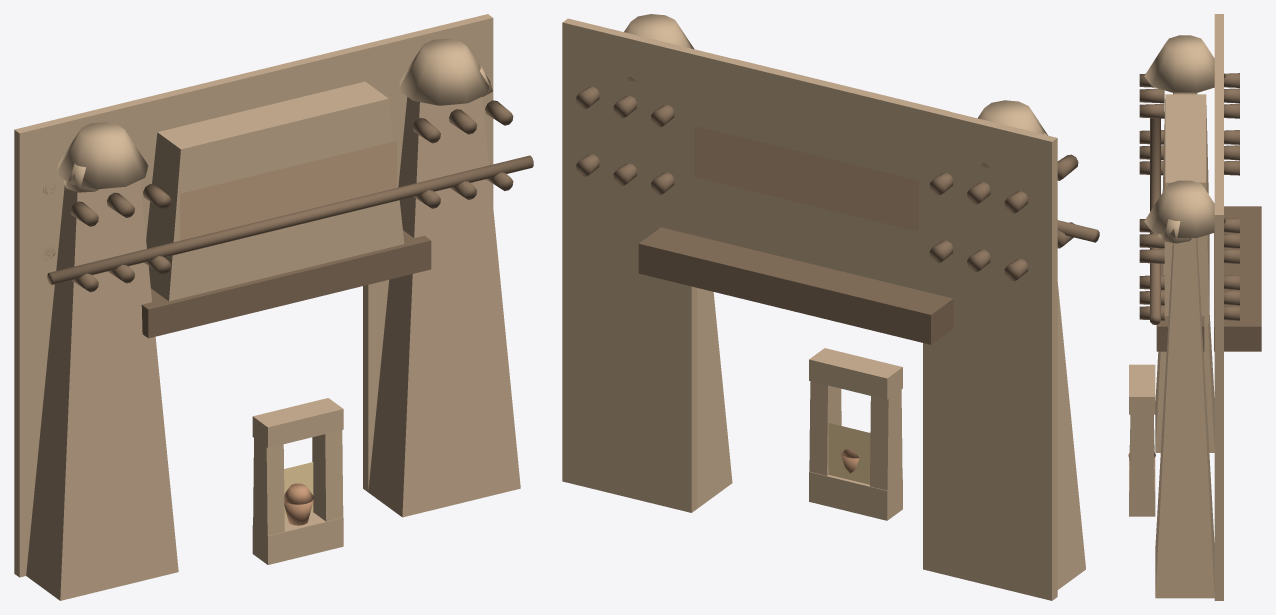
The model's file is kingdoms.glb.
The picture shows the model from 3 angles, left to right: view 1: azimuth 30°, elevation 25°; view 2: azimuth 150°, elevation 25°; view 3: azimuth 270°, elevation 25°; orthographic projection. The views are drawn at different scales.
Visible parts, largest first — view 1: Banco_towerL, Banco_towerR, Banco_header, Banco_backL, Band_header, Timber_lintel, Banco_backR, Banco_backHdr, Timber_beam, Banco_cap.001, Banco_cap, Banco_nicheL (+4 smaller); view 2: Banco_backL, Banco_backR, Banco_backHdr, Timber_lintelIn, Band_headerIn, Banco_towerR, Banco_towerL, Banco_nicheL, Banco_nicheTop, Banco_nicheSill, Banco_nicheR, Glow_back (+2 smaller); view 3: Banco_towerR, Banco_header, Banco_backR, Timber_lintelIn, Banco_cap, Banco_cap.001, Banco_nicheR, Banco_towerL, Timber_beam, Banco_nicheTop, Banco_backHdr, Banco_backL (+23 smaller).
Boxes of the visible parts, left/top/right/bottom form: Banco_towerL: left=26, top=180, right=178, bottom=600; Banco_towerR: left=368, top=97, right=520, bottom=517; Banco_header: left=146, top=81, right=404, bottom=301; Banco_backL: left=14, top=99, right=144, bottom=577; Band_header: left=180, top=141, right=396, bottom=240; Timber_lintel: left=141, top=230, right=431, bottom=338; Banco_backR: left=363, top=14, right=493, bottom=491; Banco_backHdr: left=139, top=44, right=368, bottom=239; Timber_beam: left=47, top=155, right=533, bottom=284; Banco_cap.001: left=398, top=38, right=490, bottom=105; Banco_cap: left=56, top=122, right=148, bottom=189; Banco_nicheL: left=252, top=413, right=284, bottom=564; Banco_backL: left=923, top=106, right=1057, bottom=600; Banco_backR: left=562, top=18, right=697, bottom=512; Banco_backHdr: left=691, top=50, right=927, bottom=290; Timber_lintelIn: left=638, top=227, right=953, bottom=344; Band_headerIn: left=694, top=126, right=918, bottom=231; Banco_towerR: left=697, top=288, right=732, bottom=508; Banco_towerL: left=1057, top=282, right=1085, bottom=589; Banco_nicheL: left=870, top=364, right=902, bottom=520; Banco_nicheTop: left=809, top=348, right=902, bottom=399; Banco_nicheSill: left=809, top=471, right=902, bottom=520; Banco_nicheR: left=809, top=349, right=841, bottom=475; Glow_back: left=828, top=423, right=870, bottom=484; Banco_towerR: left=1155, top=238, right=1214, bottom=598; Banco_header: left=1162, top=94, right=1209, bottom=323; Banco_backR: left=1214, top=162, right=1223, bottom=600; Timber_lintelIn: left=1214, top=206, right=1261, bottom=351; Banco_cap: left=1144, top=35, right=1225, bottom=92; Banco_cap.001: left=1144, top=180, right=1225, bottom=237; Banco_nicheR: left=1129, top=414, right=1155, bottom=516; Banco_towerL: left=1155, top=92, right=1214, bottom=452; Timber_beam: left=1150, top=118, right=1160, bottom=324; Banco_nicheTop: left=1129, top=364, right=1155, bottom=414; Banco_backHdr: left=1214, top=67, right=1223, bottom=161; Banco_backL: left=1214, top=14, right=1223, bottom=66.
Bounding box in the file's own units: 7.3 × 6.45 × 2.02.
